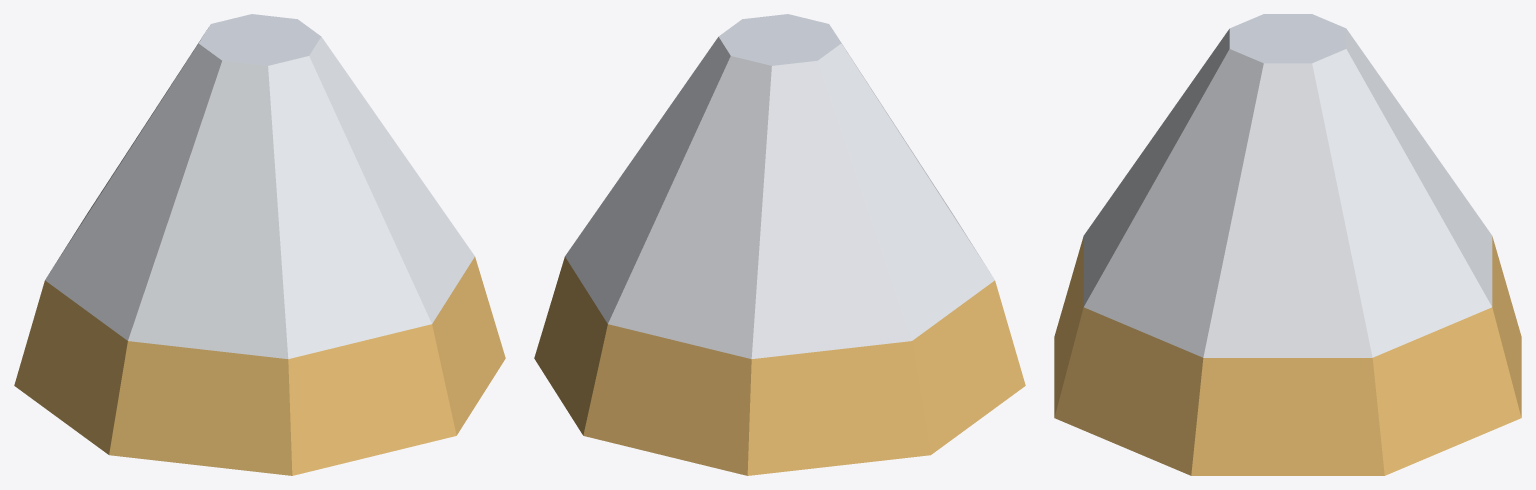
Rendered from rocket_topA.glb.
3 views of the same model, side by side, from view 1: azimuth 30°, elevation 25°; view 2: azimuth 150°, elevation 25°; view 3: azimuth 270°, elevation 25° (orthographic).
Visible parts, largest first — view 1: rocket_topA; view 2: rocket_topA; view 3: rocket_topA.
Part boxes in pixels (<box>): rocket_topA: <box>14,14,505,475</box>; rocket_topA: <box>534,14,1025,475</box>; rocket_topA: <box>1054,14,1521,475</box>.
Bounding box in the file's own units: 1 × 0.8 × 1.
Materials: 1 (1 with a texture image).
